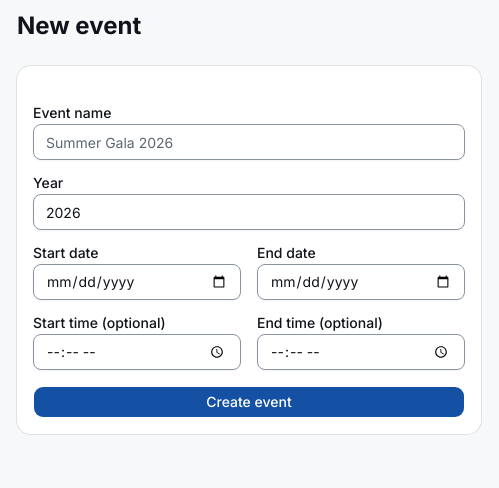
Test case: NewEventPage — optional booking time › rejects a one-sided time range with an inline error, without submitting
Expected: the button "Create event" is enabled, [33, 386, 465, 418]
In the field labelled "Event name": (249, 142) [33, 124, 465, 160], type "Summer Gala"
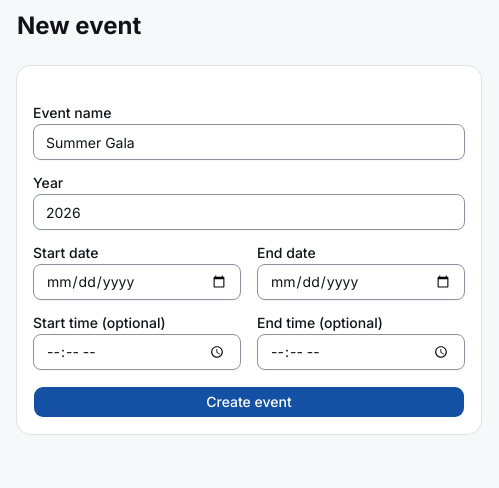
In the date field labelled "Start date": (137, 282) [33, 264, 241, 300], type "2026-08-22"
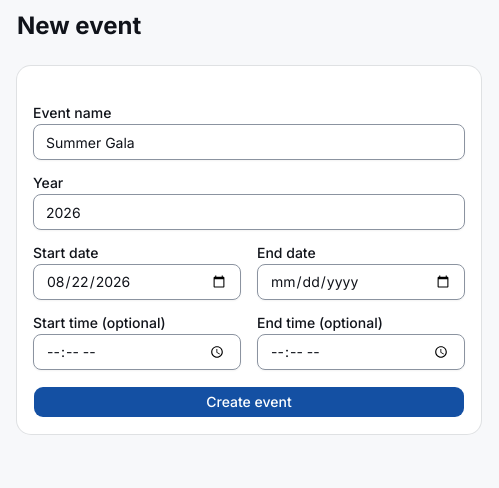
In the date field labelled "End date": (361, 282) [257, 264, 465, 300], type "2026-08-22"
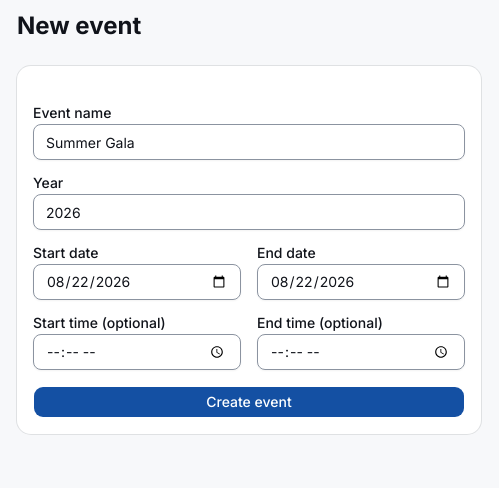
In the time field labelled "Start time (optional)": (137, 352) [33, 334, 241, 370], type "16:00"
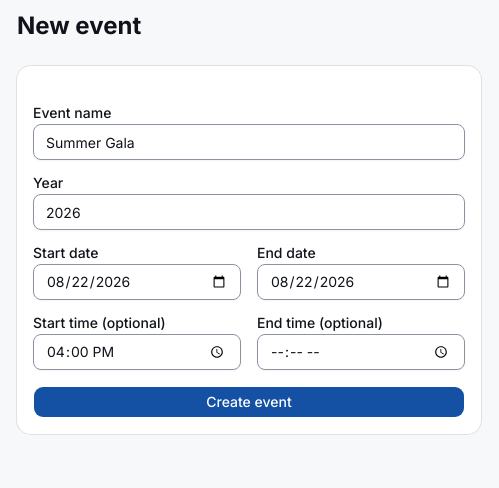
Click the button "Create event": (249, 402) [33, 386, 465, 418]
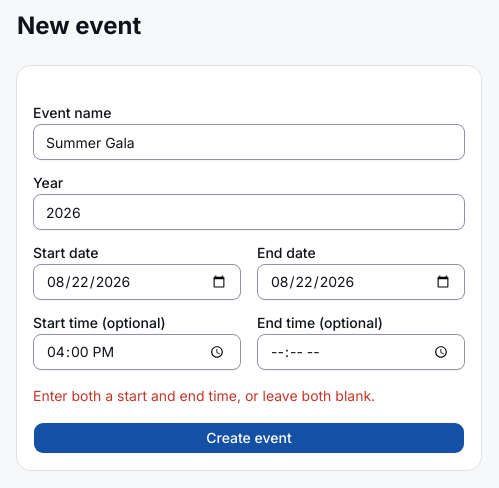
Now the text "Enter both a start and end time, or leave both blank." is shown, box [33, 387, 375, 404]
